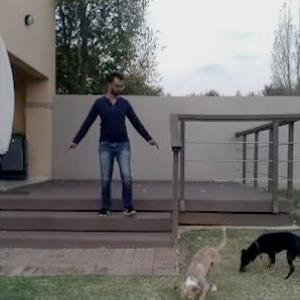land: (73, 74, 155, 228)
